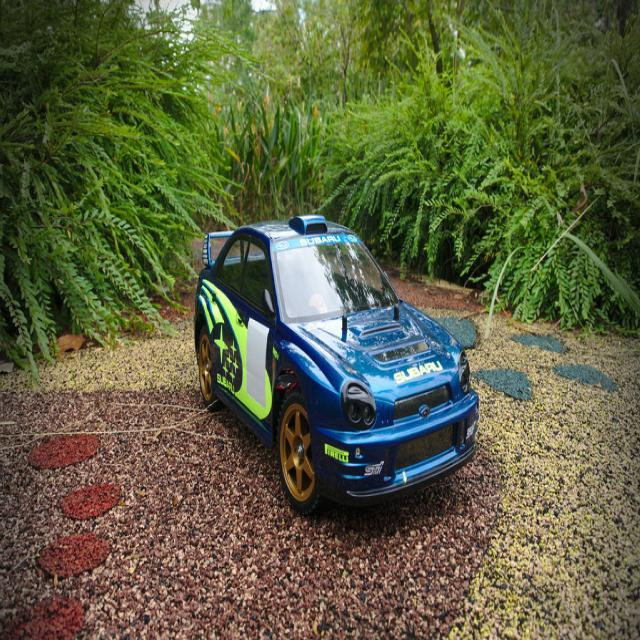Passenger Car: (190, 216, 479, 515)
